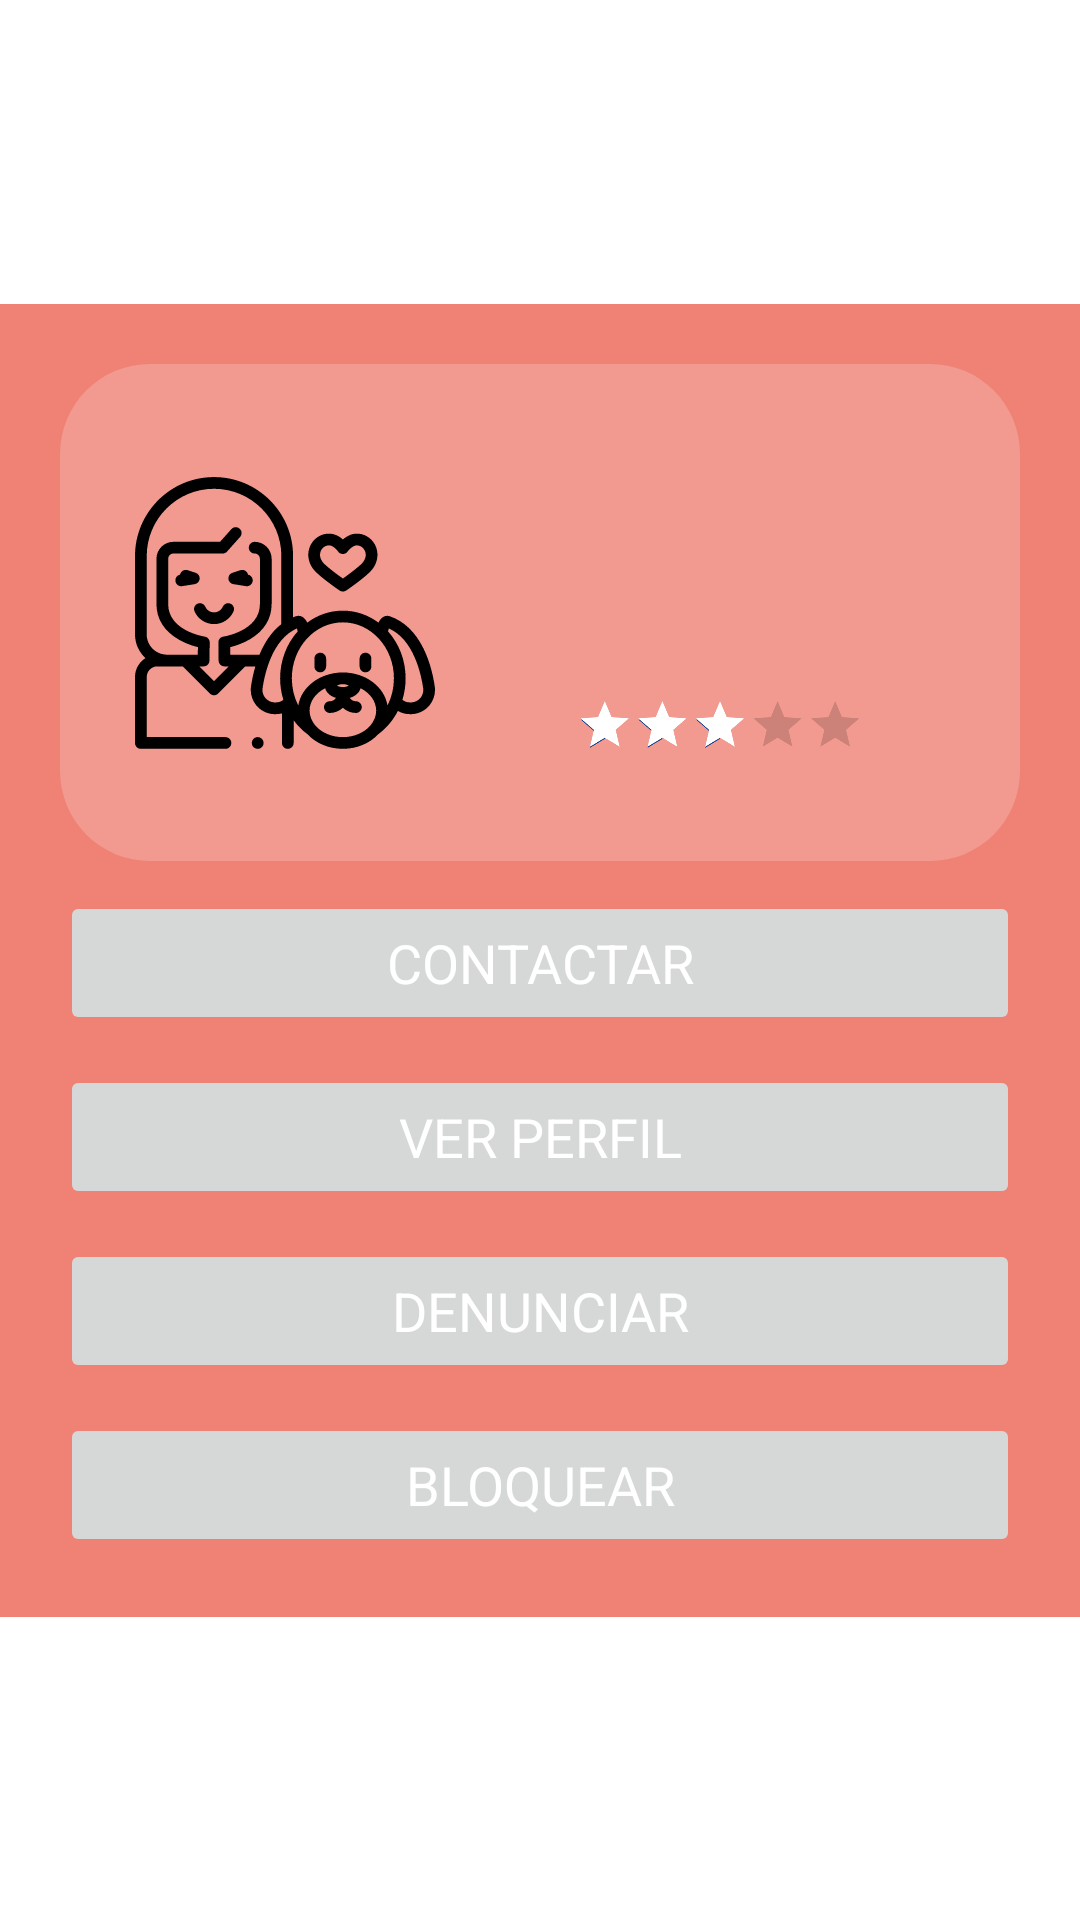

Icon bounding boxes for this 1080*1920 phone screenshot, format bbox=(x1, y1, x2, y2):
femaleowner: bbox=(135, 477, 435, 749)
